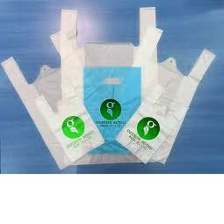plastic_bag: (55, 3, 163, 166), (105, 25, 217, 165), (0, 25, 95, 173), (32, 76, 106, 164), (113, 85, 191, 167)
